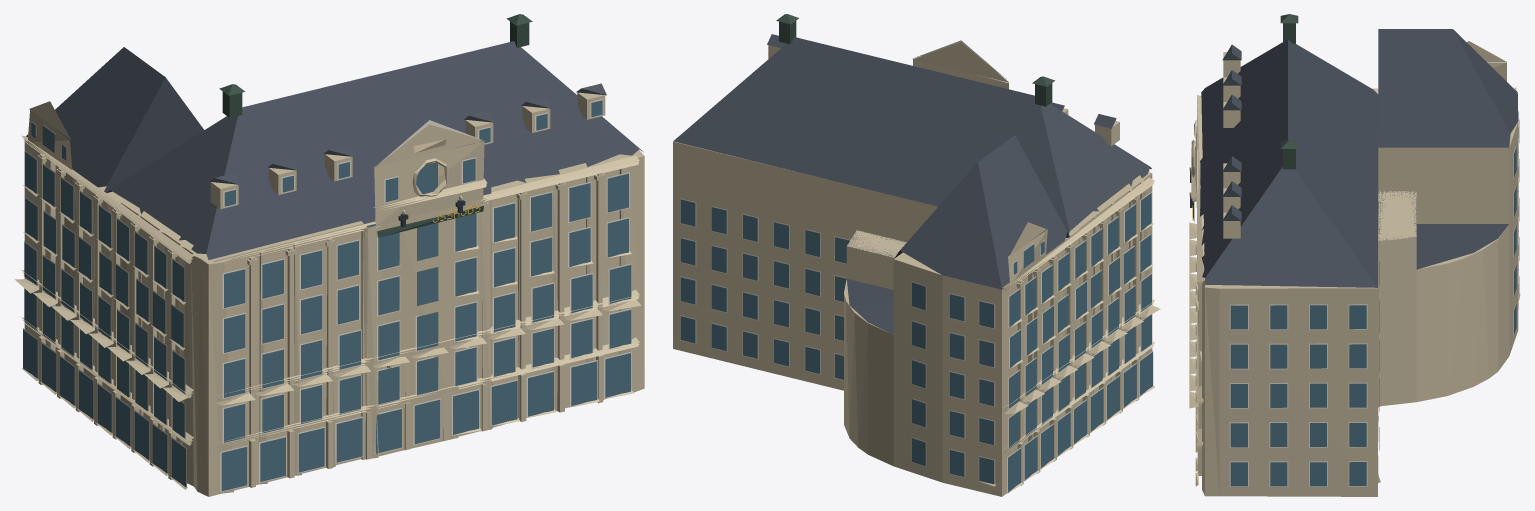
The model's file is madame-tussauds.lod1.glb.
The picture shows the model from 3 angles, left to right: view 1: azimuth 30°, elevation 25°; view 2: azimuth 150°, elevation 25°; view 3: azimuth 270°, elevation 25°; orthographic projection. The views are drawn at different scales.
Parts seen in each view (by area): view 1: madame-tussauds; view 2: madame-tussauds; view 3: madame-tussauds.
Part boxes in pixels (<box>): madame-tussauds: <box>14,14,644,496</box>; madame-tussauds: <box>673,14,1160,496</box>; madame-tussauds: <box>1189,14,1520,496</box>.
Bounding box in the file's own units: 45.4 × 33.7 × 31.4.
